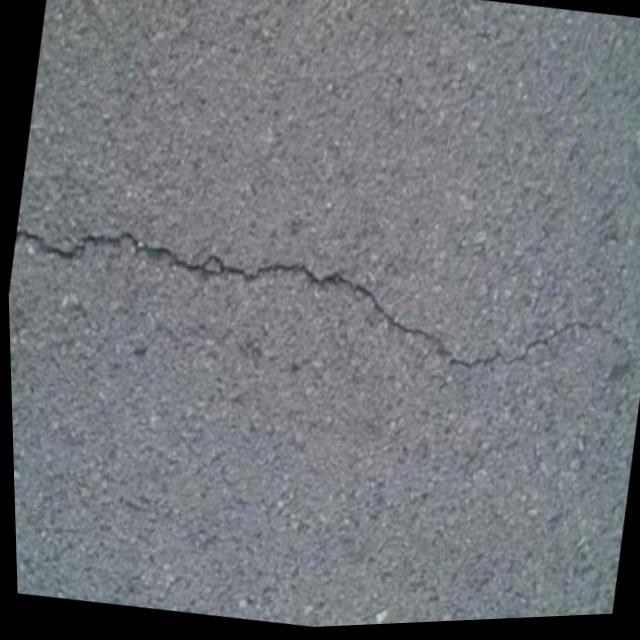Crack: (5, 182, 640, 422)
